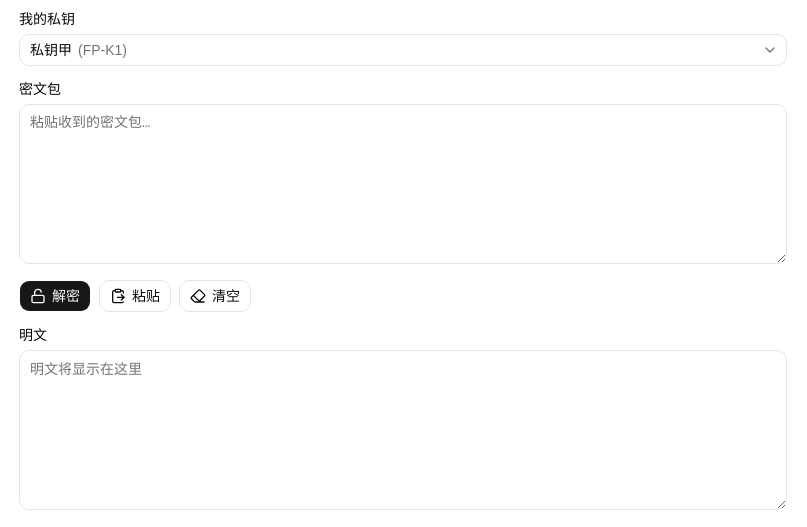
Test case: DecryptPage › 粘贴按钮填充密文包，清空按钮清空两框
Expected: the dropdown reads "私钥甲 (FP-K1)", [19, 34, 787, 66]
Click the button "粘贴": (135,296) [99, 280, 171, 312]
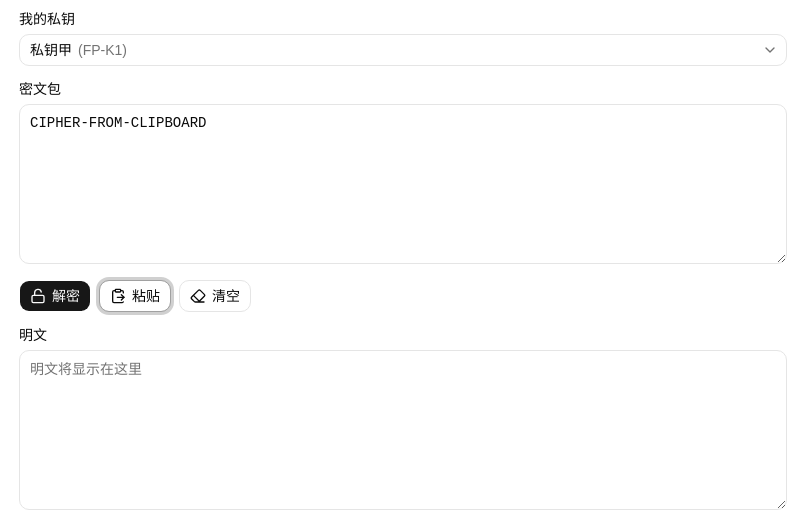
Now the text box labelled "密文包" holds "CIPHER-FROM-CLIPBOARD"
In the text box labelled "密文包": (403,184) [19, 104, 787, 264], type " 追加"
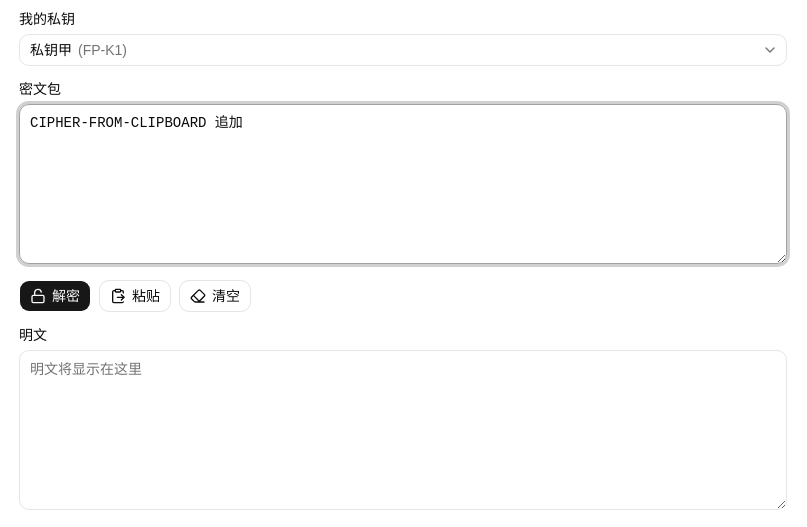
Click the button "清空": (215,296) [179, 280, 251, 312]
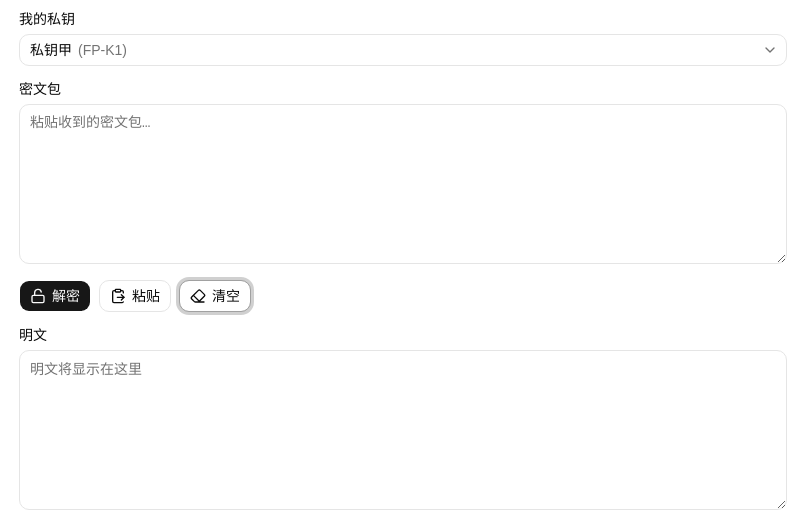
Expected: the text box labelled "明文" is empty, [19, 350, 787, 510]
Now the text box labelled "密文包" is empty, box [19, 104, 787, 264]
